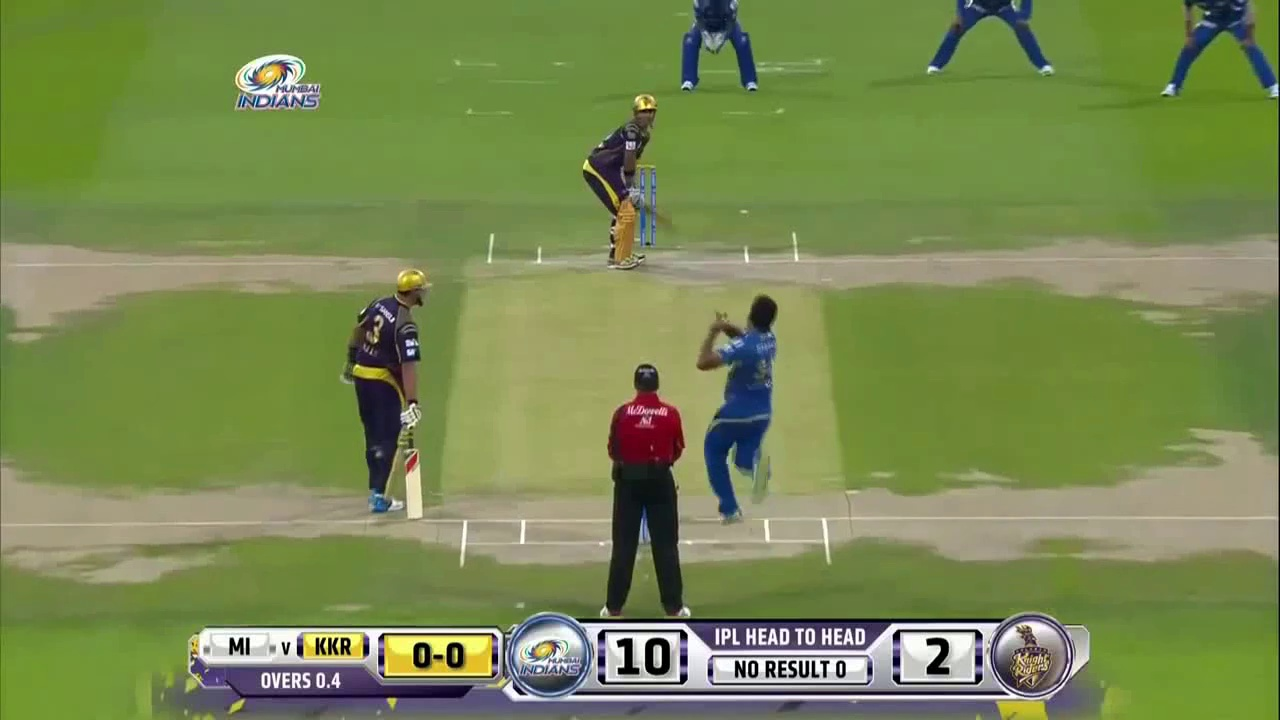bat: (402, 430, 423, 519)
